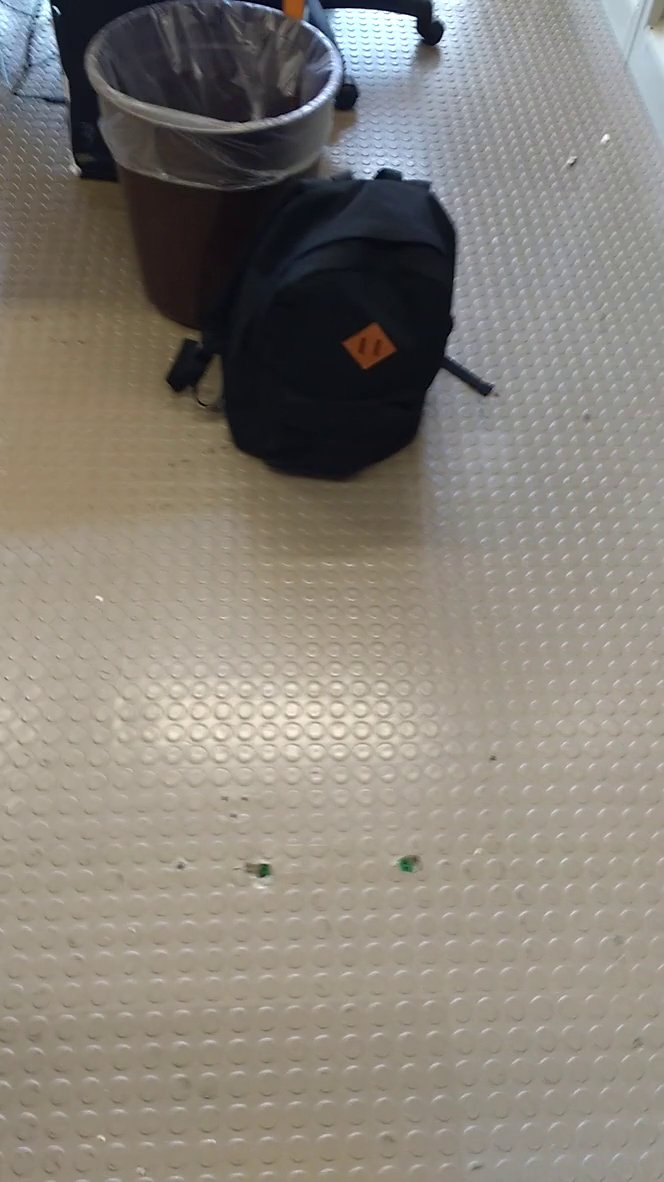bag: (157, 156, 492, 492)
bin: (80, 1, 351, 240)
